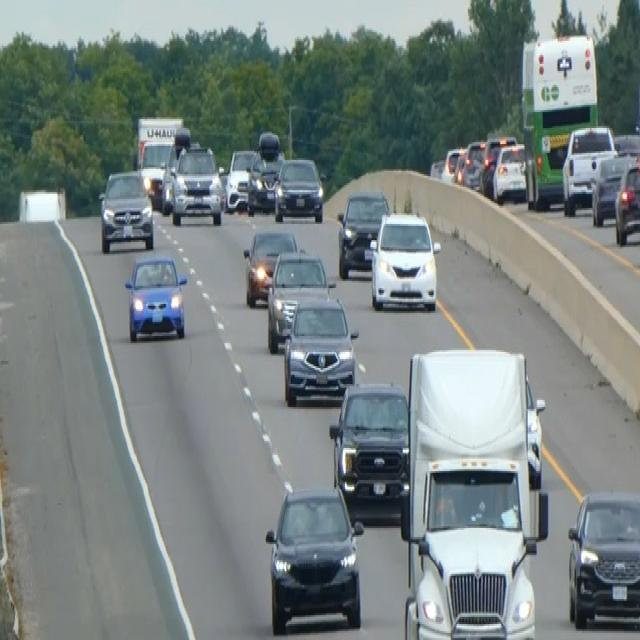bus: (519, 30, 599, 210)
car: (264, 482, 364, 633), (328, 379, 410, 512), (566, 487, 639, 629), (282, 295, 358, 405), (367, 210, 440, 311), (266, 247, 332, 352), (431, 132, 527, 204), (123, 252, 187, 342), (561, 123, 617, 215), (97, 167, 154, 253), (336, 189, 389, 279), (242, 225, 297, 308), (170, 142, 223, 226), (590, 151, 636, 226), (273, 155, 323, 222), (246, 130, 284, 213), (137, 135, 174, 208), (160, 137, 190, 213), (480, 134, 516, 196), (492, 142, 527, 203), (614, 160, 639, 245), (224, 146, 256, 212), (461, 138, 486, 188), (613, 132, 639, 167), (441, 144, 464, 183), (453, 146, 467, 185), (429, 156, 444, 180)
lorry: (399, 345, 549, 638)
